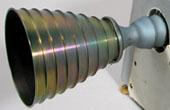thruster: (4, 6, 138, 108)
